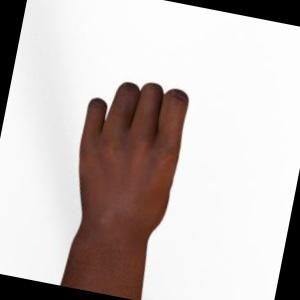rock: (60, 83, 188, 300)
